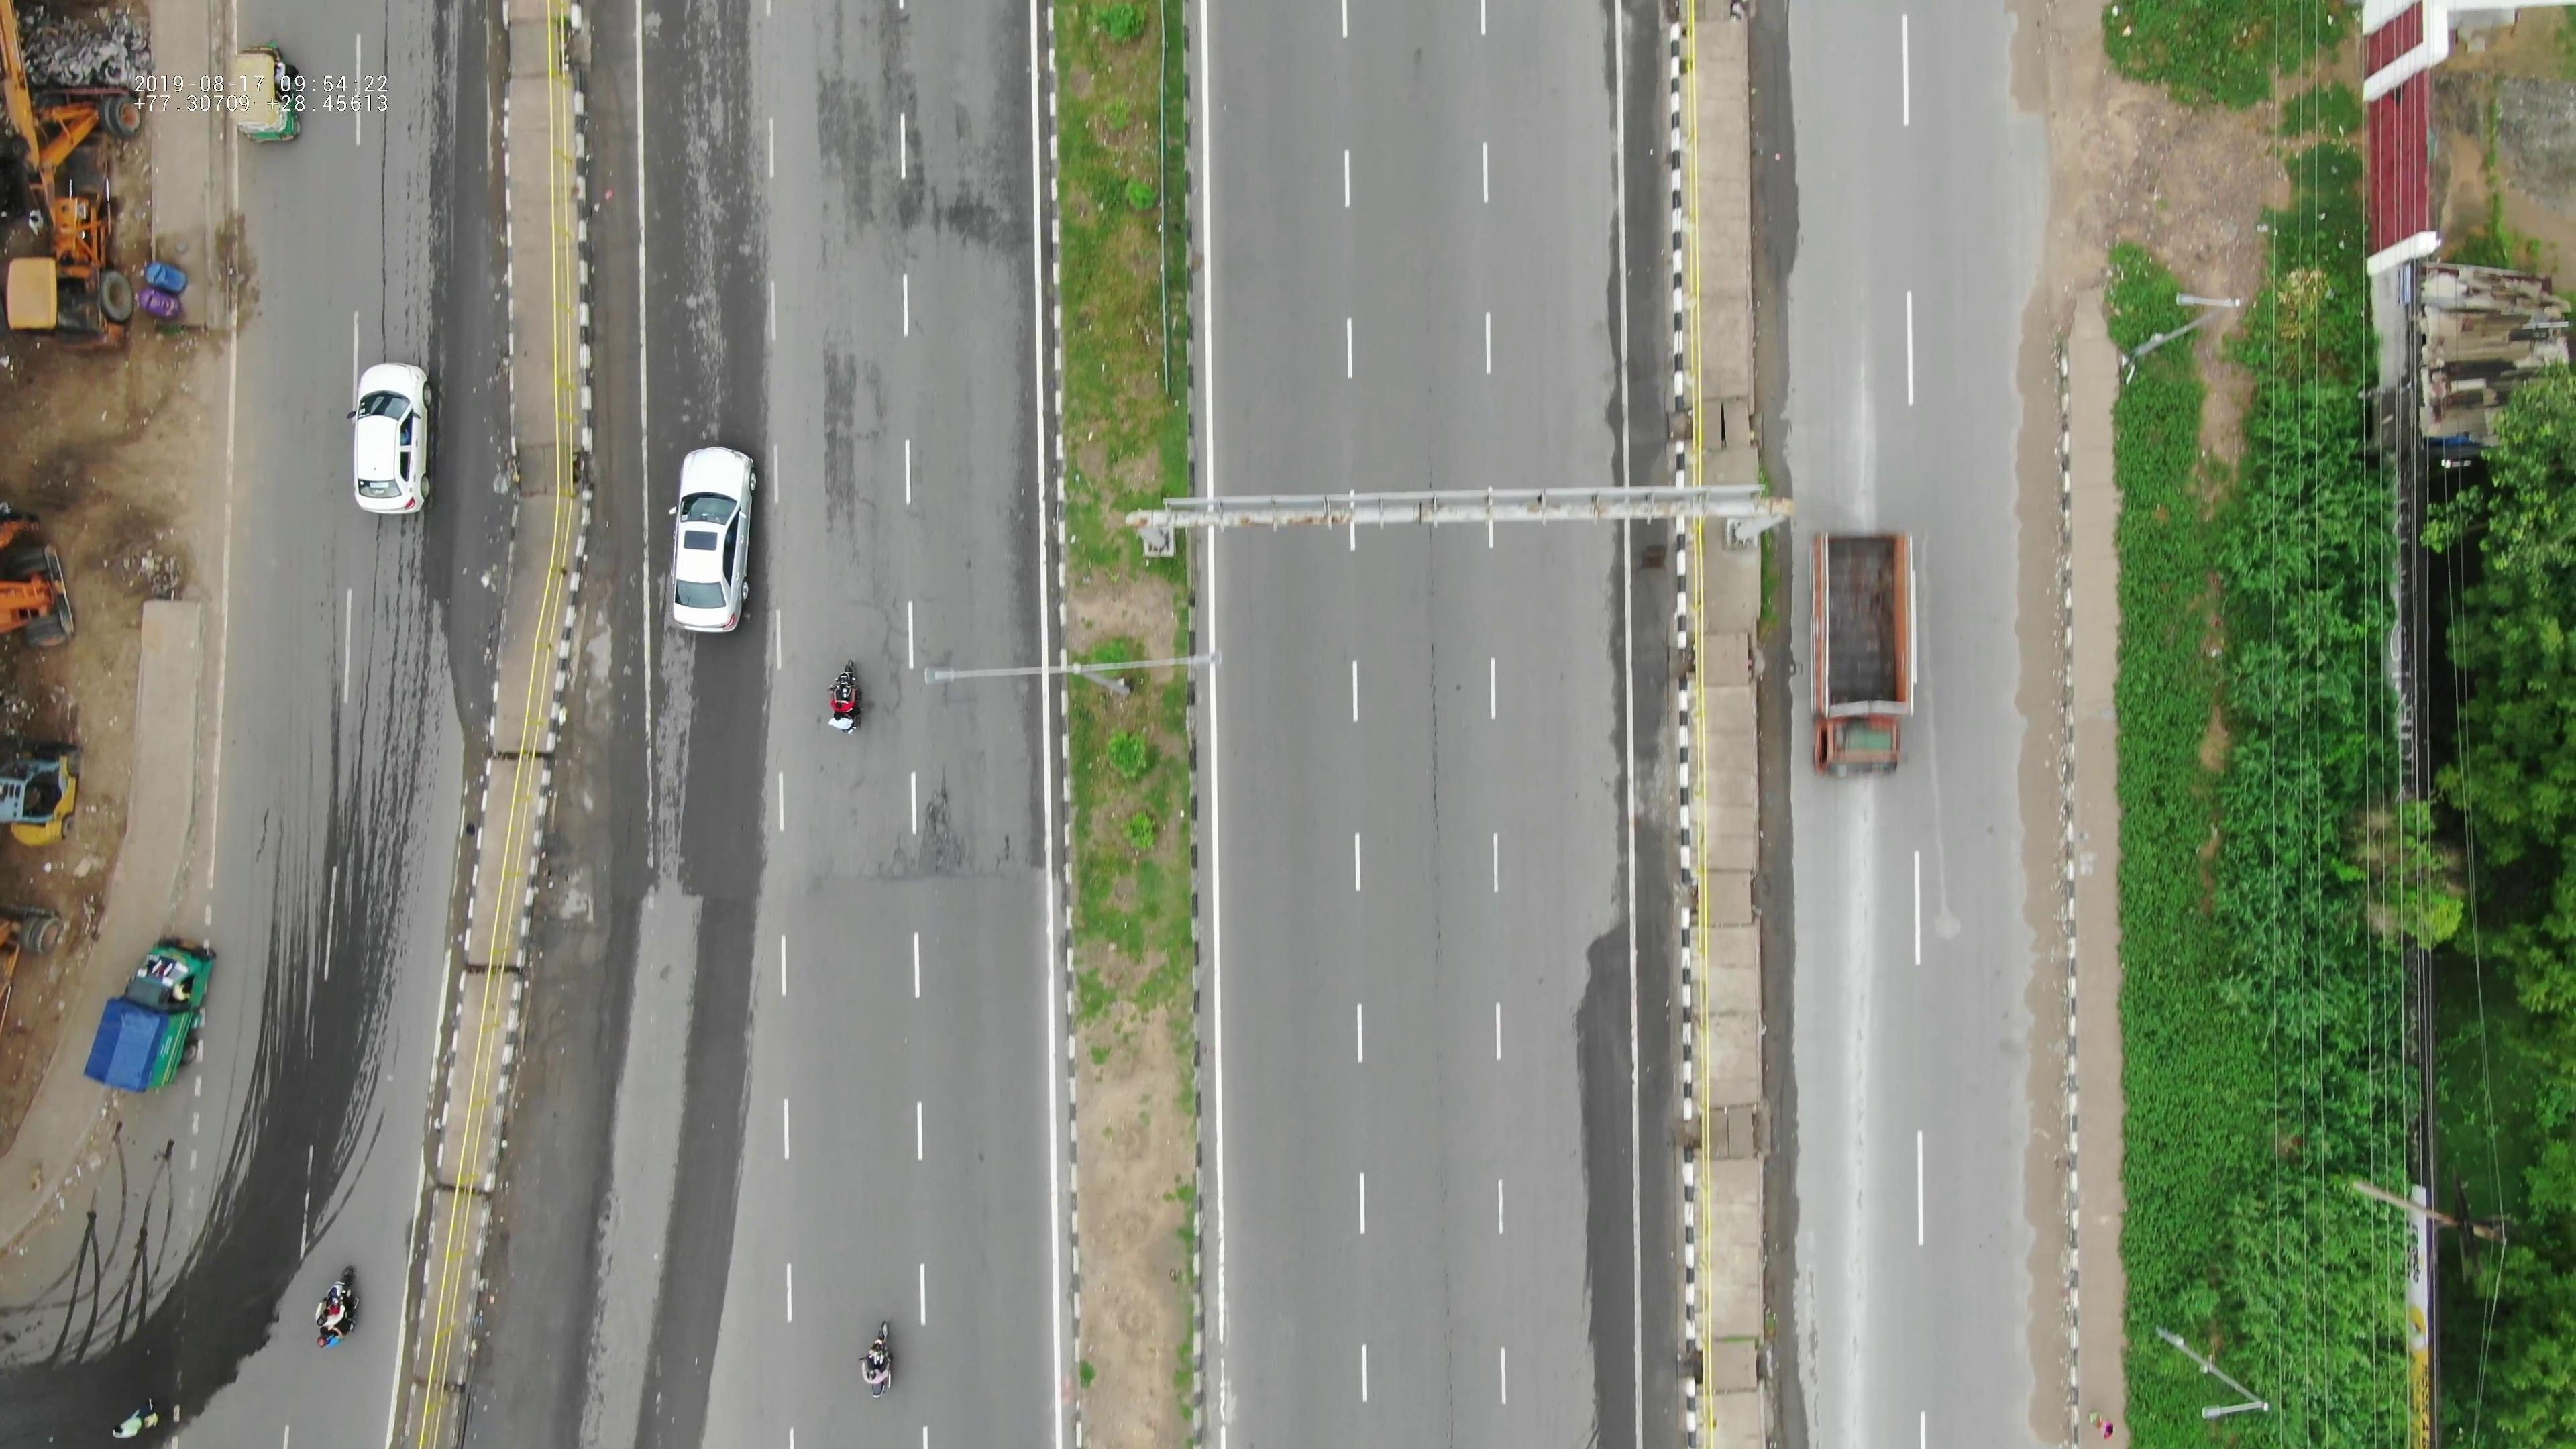Muddy_road: (2003, 322, 2082, 938), (2008, 982, 2091, 1428)
